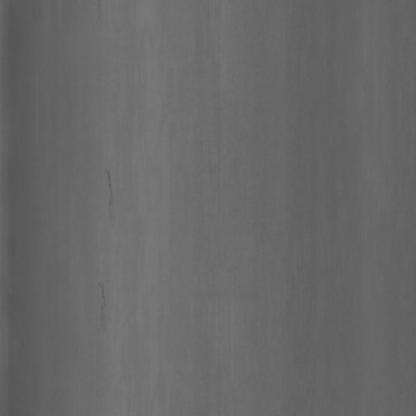water_spot: (94, 150, 128, 322)
